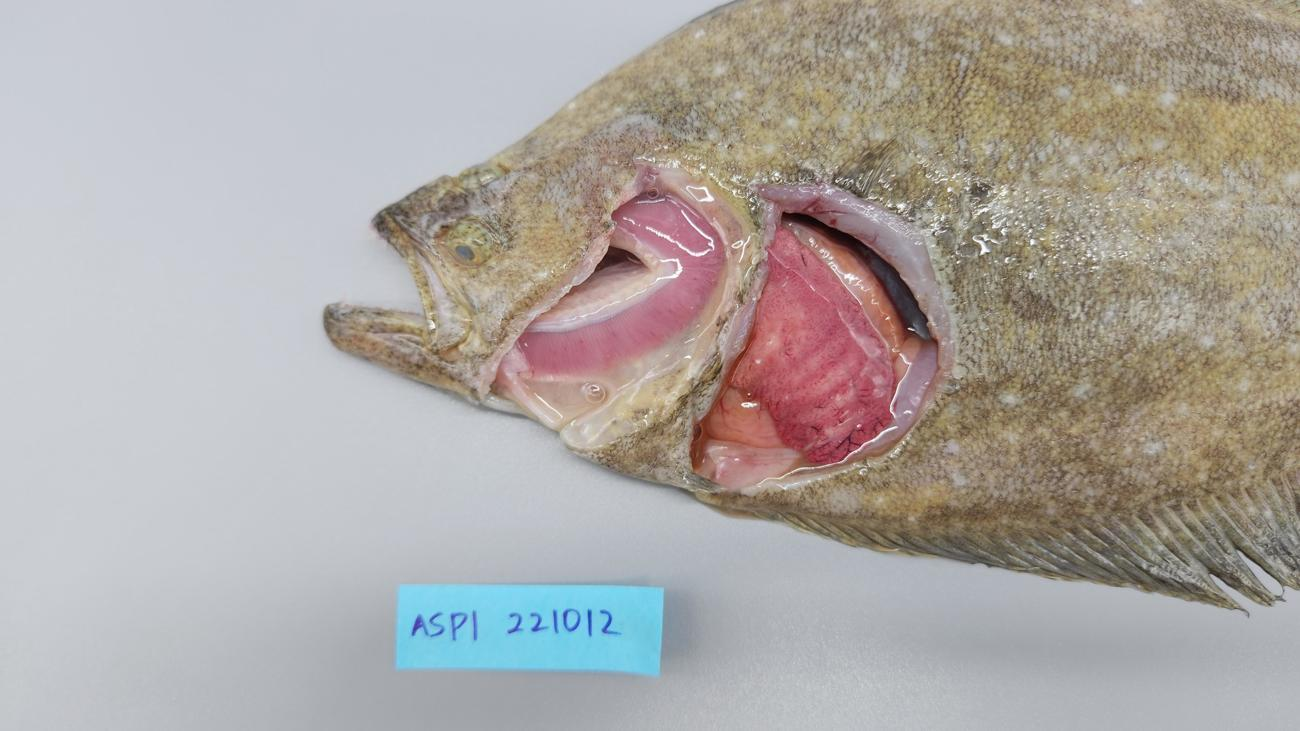SPGIP: (521, 193, 724, 374)
SPLIC: (728, 227, 895, 464)
